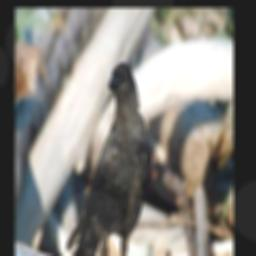Crow: (63, 59, 154, 256)
